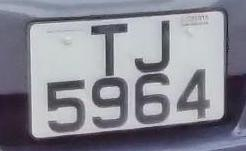4: (171, 63, 217, 129)
5: (37, 69, 91, 138)
6: (128, 69, 181, 129)
9: (82, 72, 137, 134)
J: (130, 16, 178, 76)
T: (83, 17, 137, 78)
